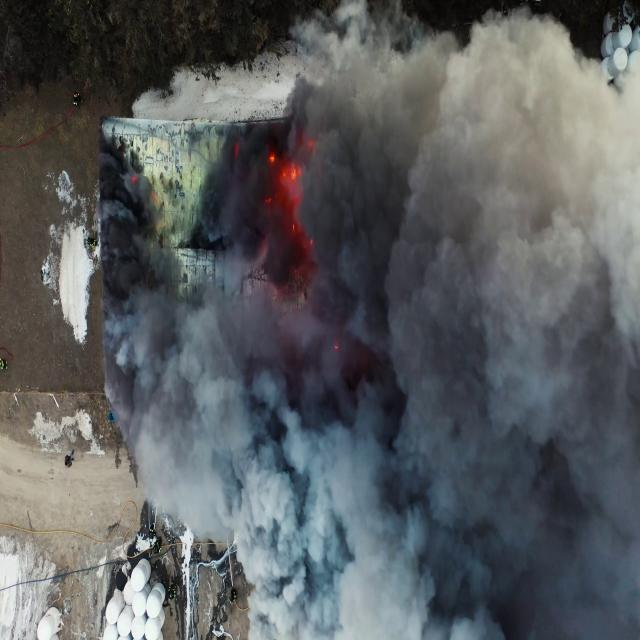Smoke: (122, 1, 640, 602)
